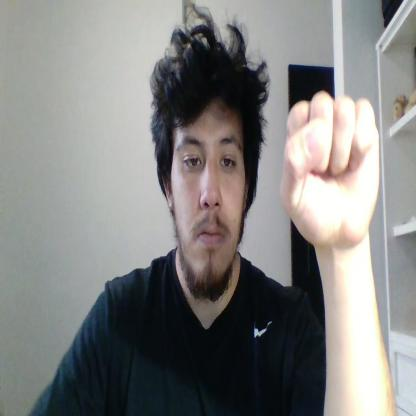S: (281, 92, 380, 248)
